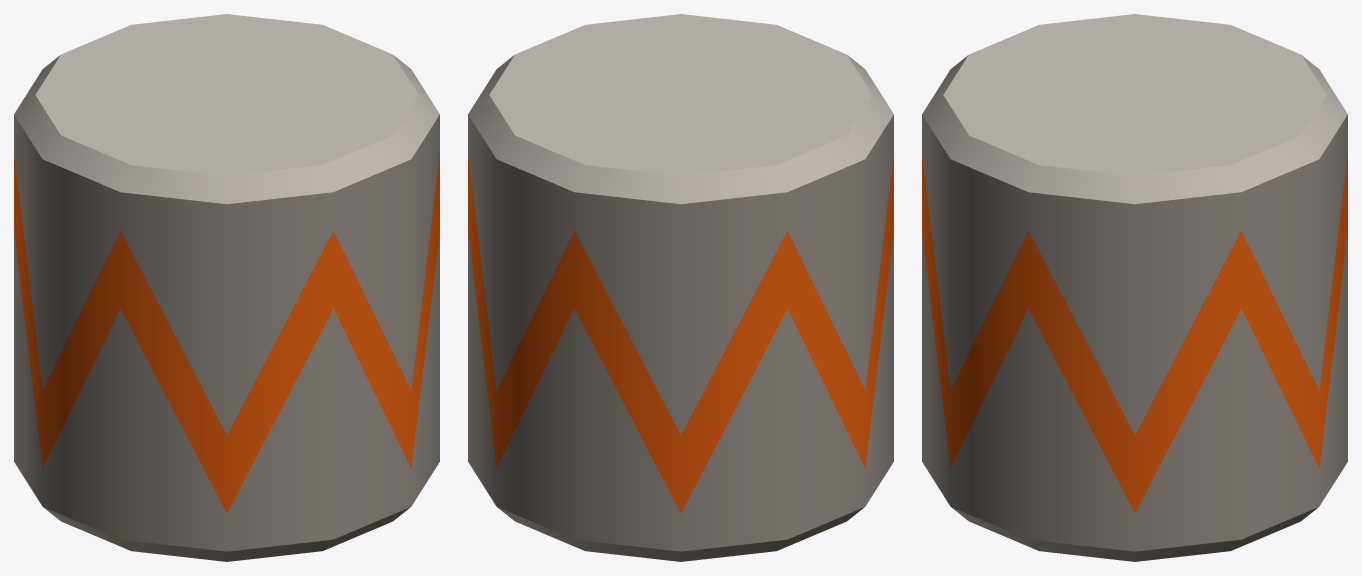
The model's file is m_deco_pillarCylinder_fireA.FBX.
The picture shows the model from 3 angles, left to right: view 1: azimuth 30°, elevation 25°; view 2: azimuth 150°, elevation 25°; view 3: azimuth 270°, elevation 25°; orthographic projection.
Visible parts, largest first — view 1: m_deco_pillarCylinder_fireA; view 2: m_deco_pillarCylinder_fireA; view 3: m_deco_pillarCylinder_fireA.
Part boxes in pixels (x1=…): m_deco_pillarCylinder_fireA: x1=14, y1=14, x2=439, y2=561; m_deco_pillarCylinder_fireA: x1=468, y1=14, x2=893, y2=561; m_deco_pillarCylinder_fireA: x1=922, y1=14, x2=1347, y2=561.
Bounding box in the file's own units: 2 × 2 × 2.
